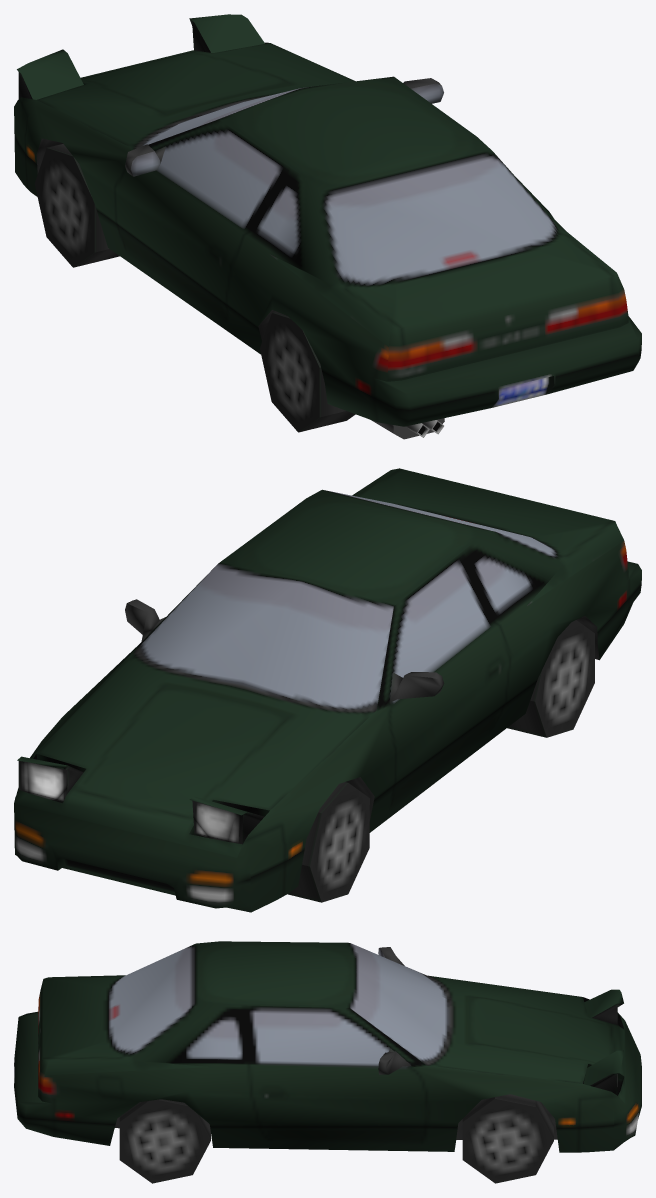
File: fhqDiecast18240SXCoupe.fbx
The picture shows the model from 3 angles, top to bottom: view 1: azimuth 30°, elevation 25°; view 2: azimuth 150°, elevation 25°; view 3: azimuth 270°, elevation 25°; orthographic projection. The views are drawn at different scales.
Visible parts, largest first — view 1: fhqusdmS13Redux; view 2: fhqusdmS13Redux; view 3: fhqusdmS13Redux.
Boxes of the visible parts, box(x1,y1,x2,y2) form: fhqusdmS13Redux: box(14, 14, 641, 439); fhqusdmS13Redux: box(14, 468, 641, 912); fhqusdmS13Redux: box(14, 941, 641, 1183).
Bounding box in the file's own units: 0.2199 × 0.1414 × 0.497.
